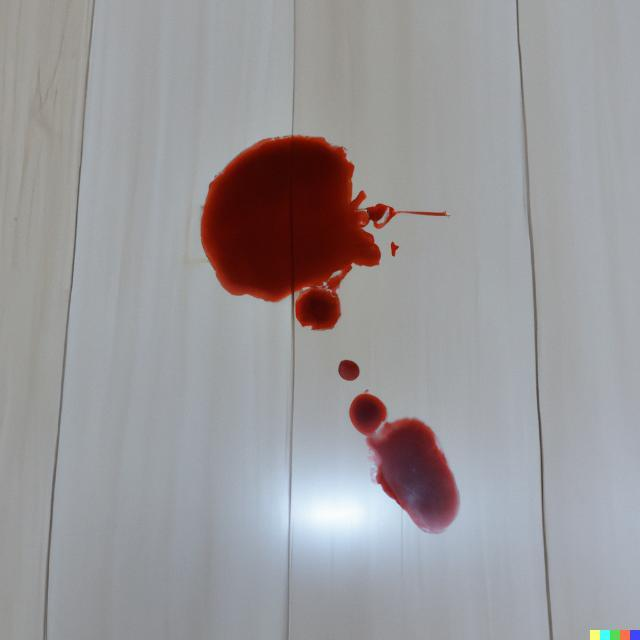blood: (200, 135, 450, 331), (349, 389, 461, 534), (338, 359, 359, 381)
